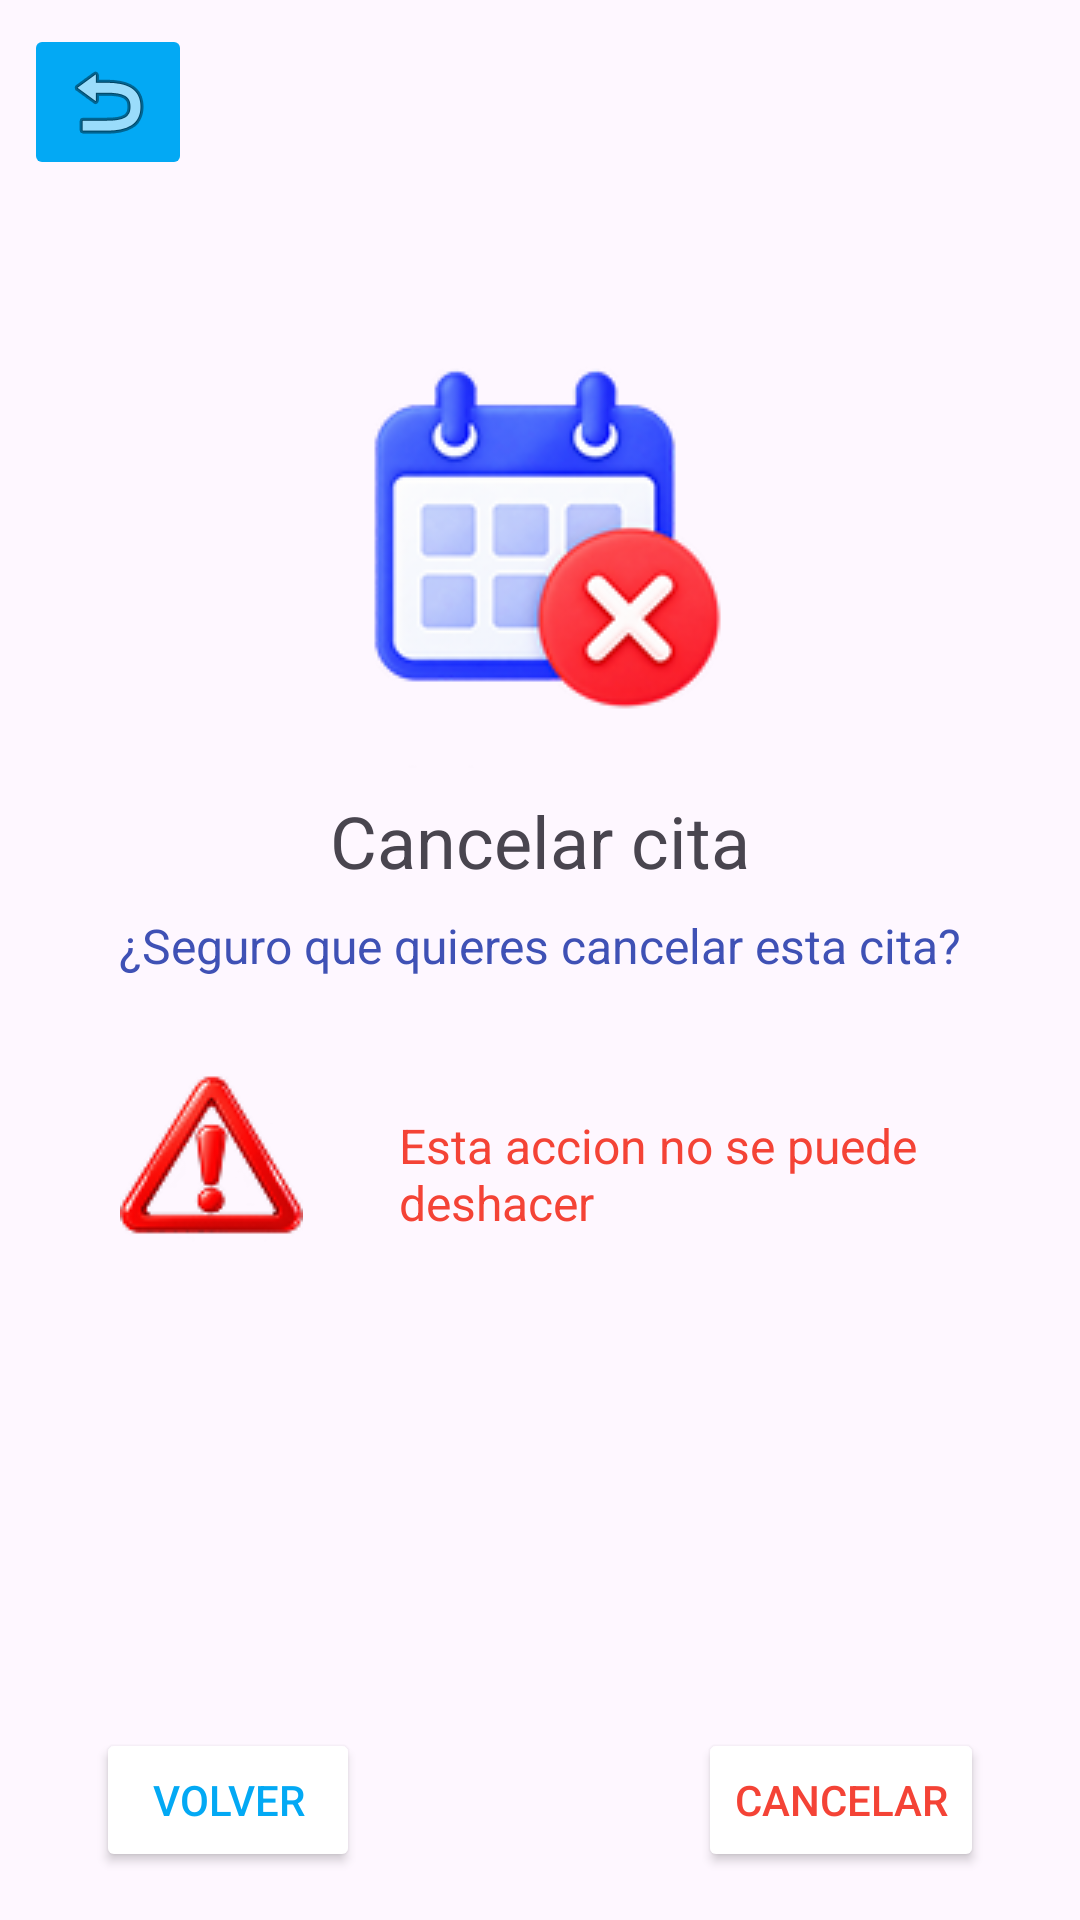

Where to tap for icons on this 1080x1920 app screen, as [x,y]:
alarma: [211,1155]
revert: [108,102]
